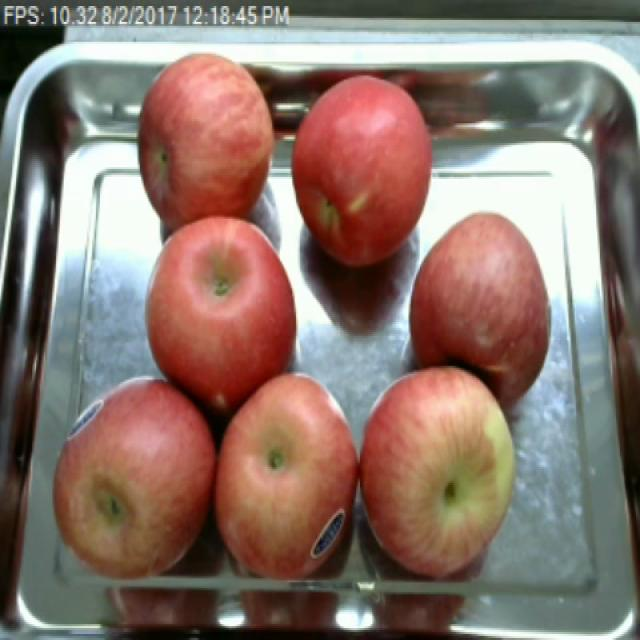apple: (53, 378, 215, 576), (360, 368, 513, 576), (215, 374, 356, 576), (147, 219, 295, 409), (411, 213, 549, 409), (293, 76, 431, 266), (140, 54, 273, 231)
